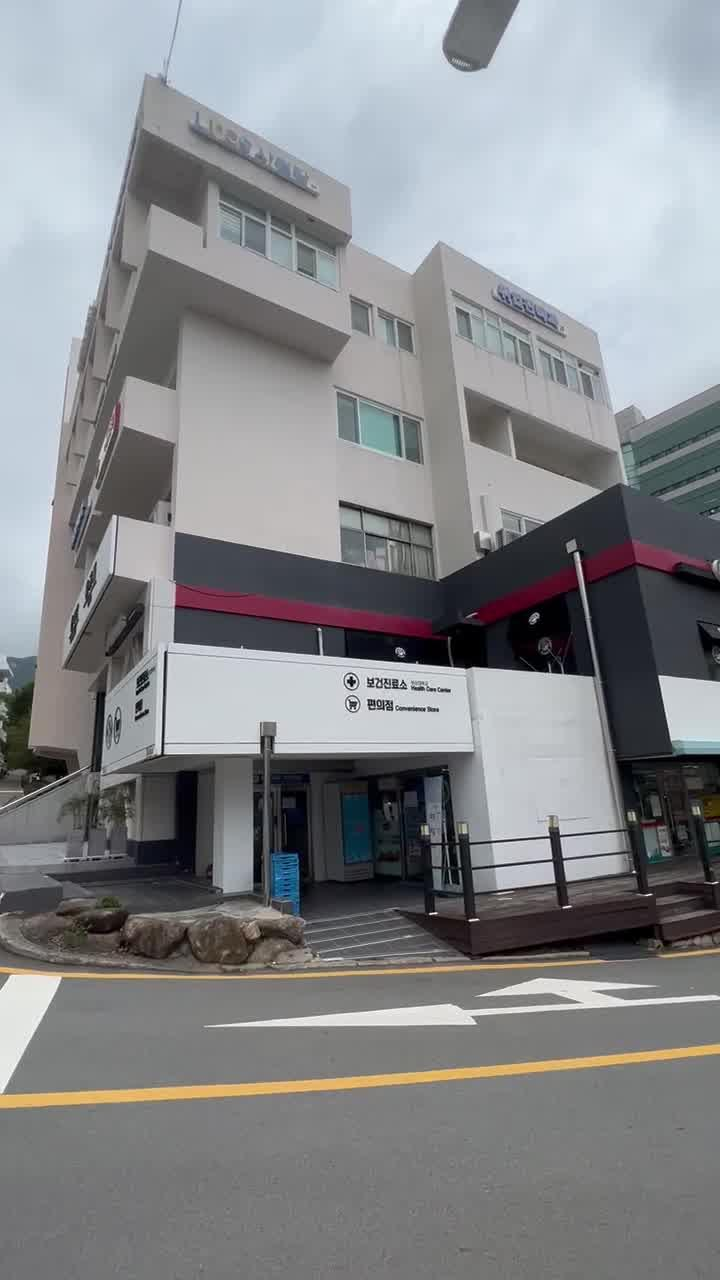building: (40, 122, 668, 866)
